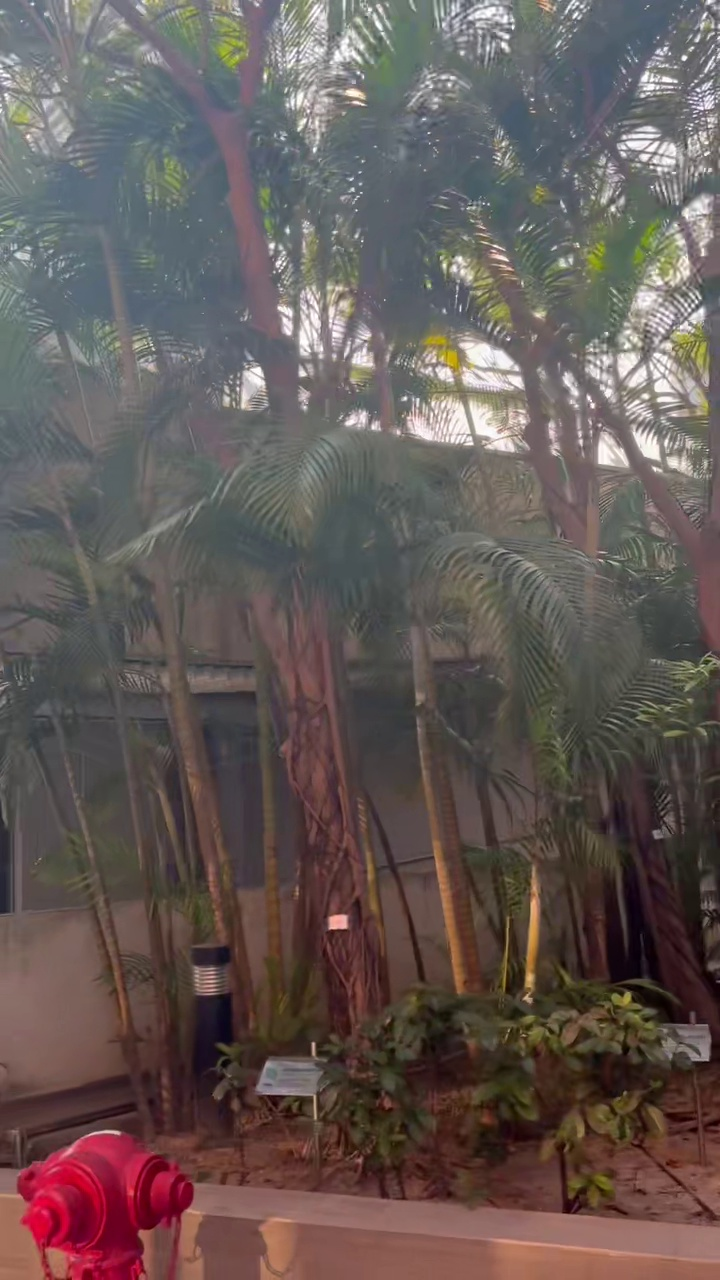Ficus benjamina: (111, 0, 378, 1034)
